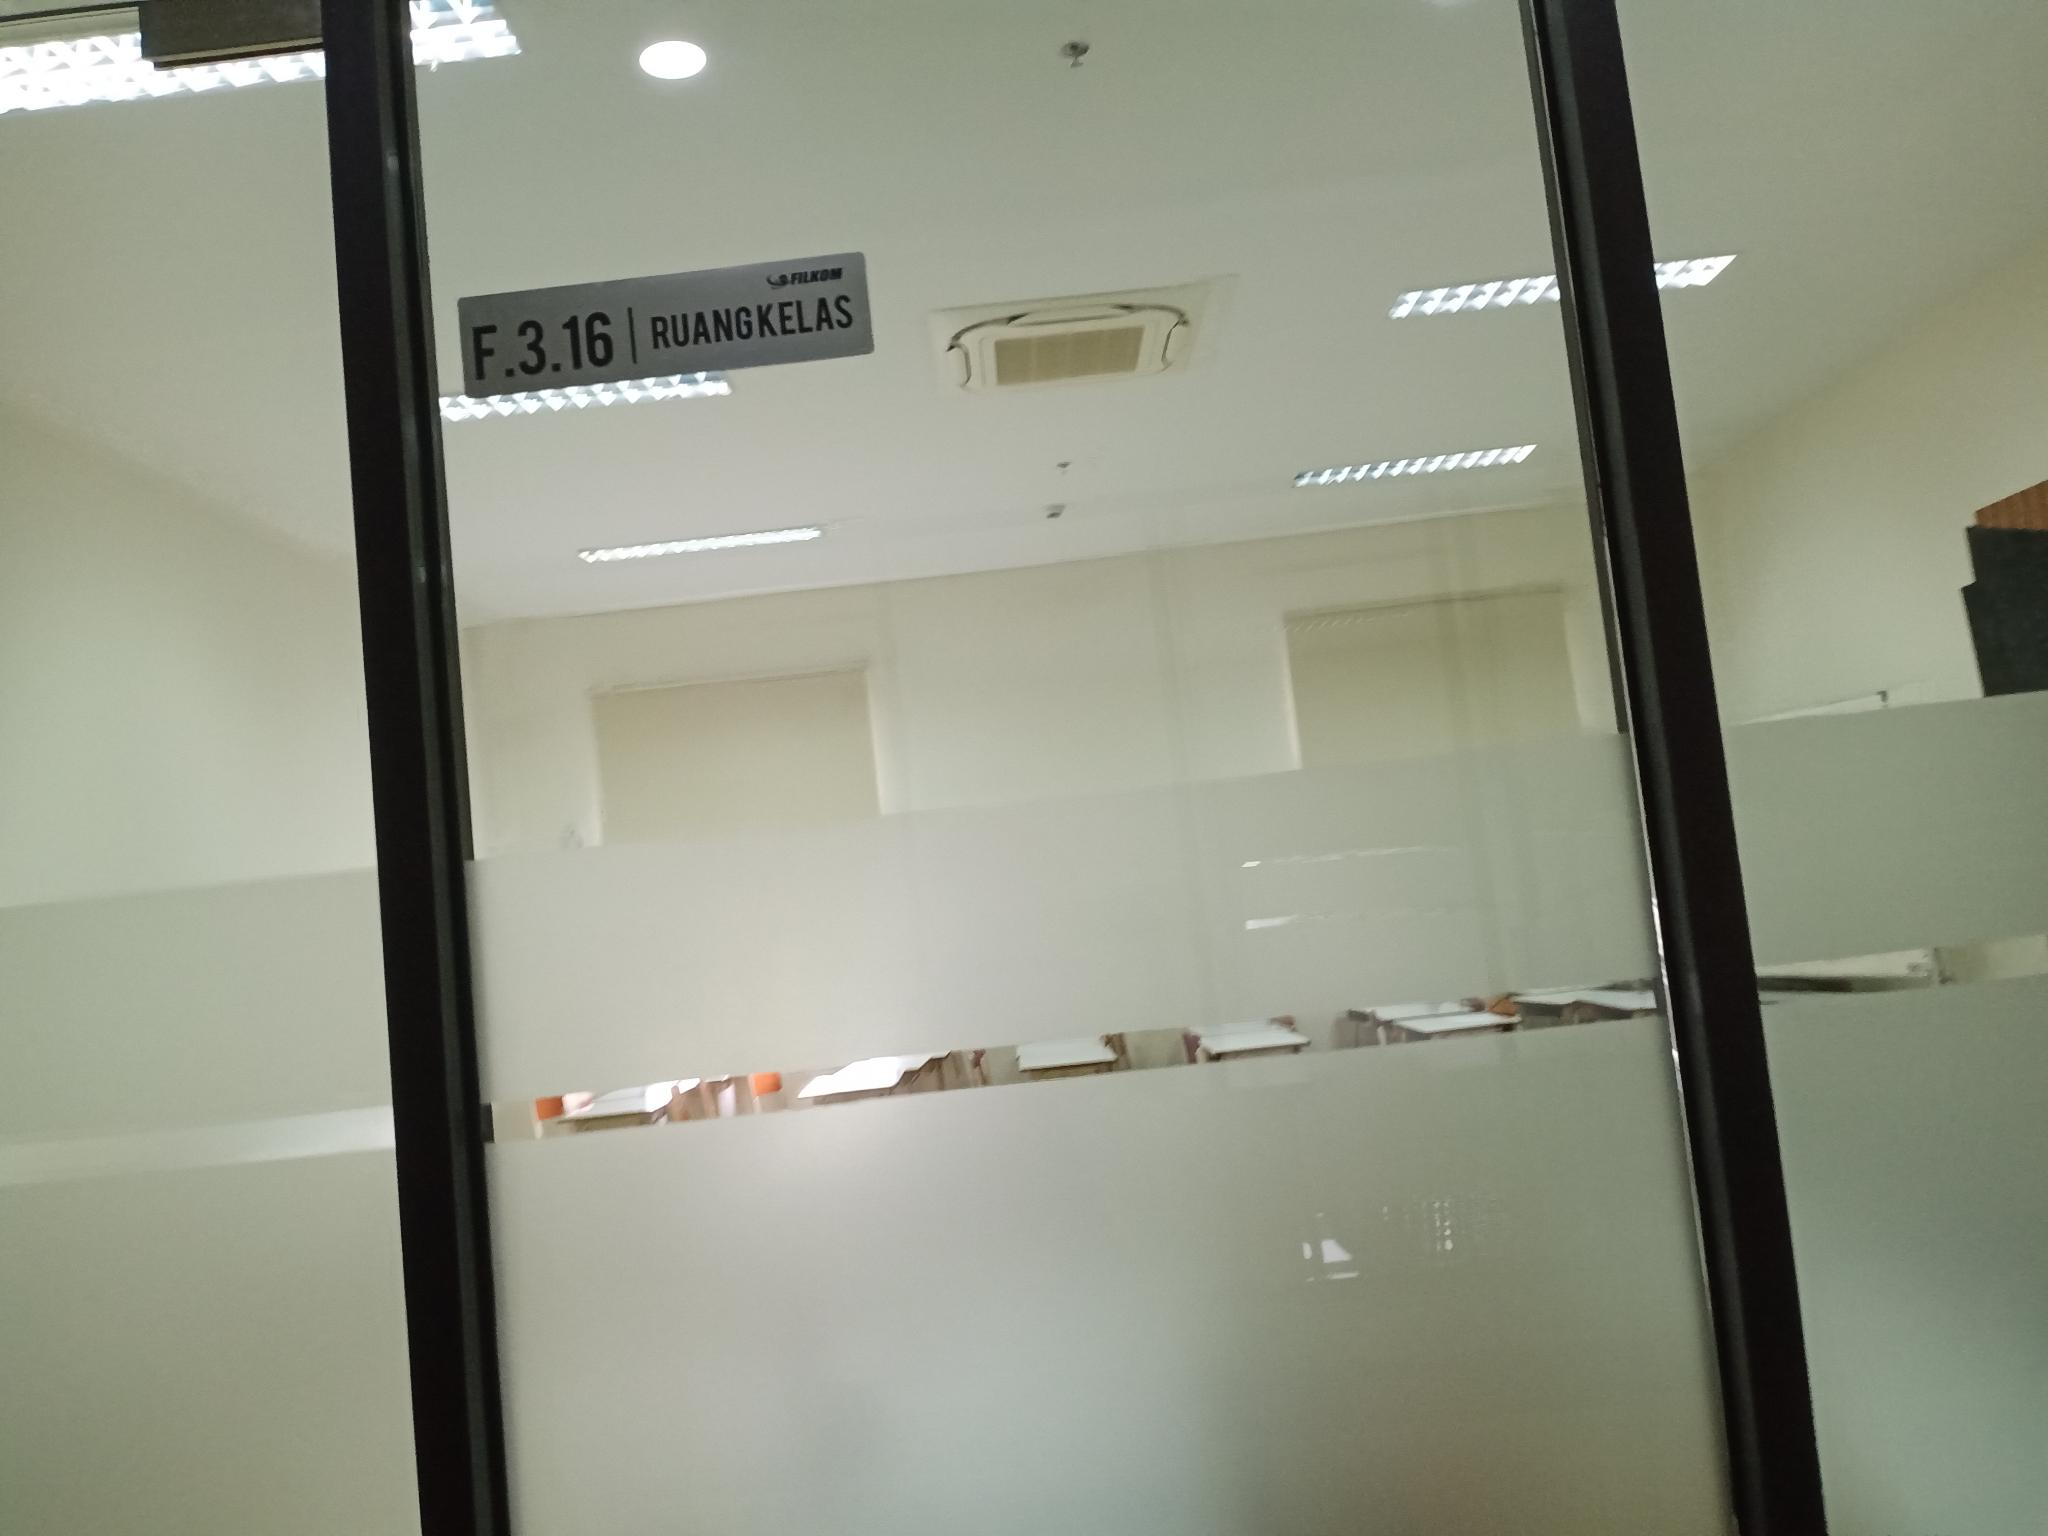plate: (458, 252, 876, 397)
